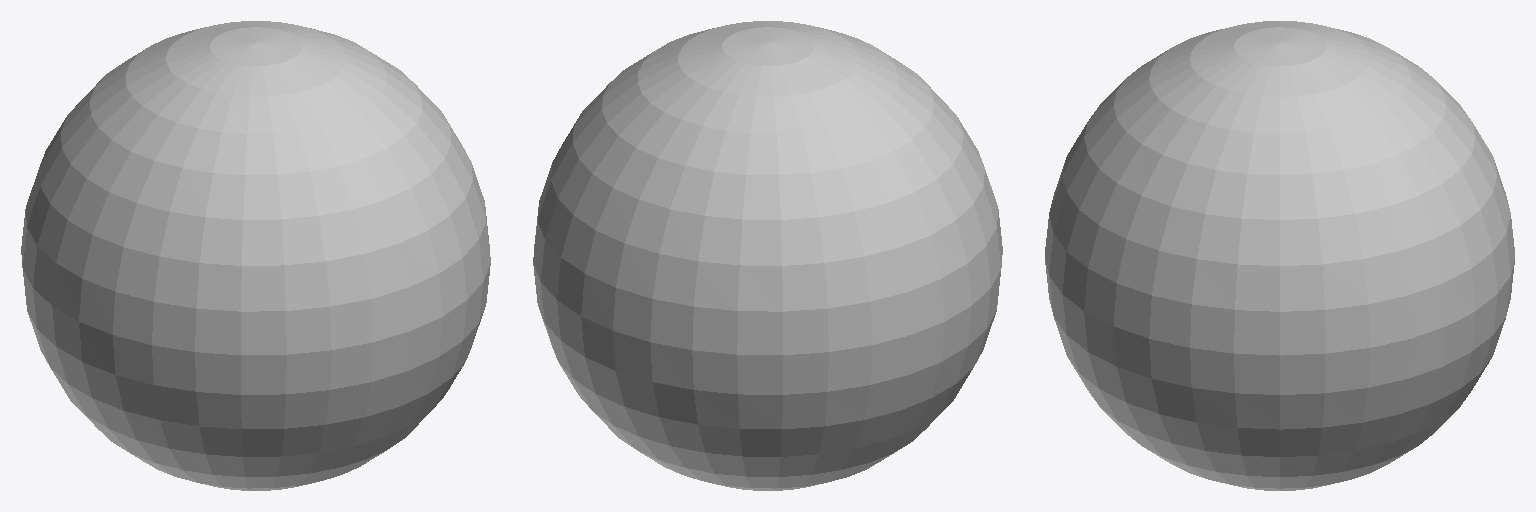
The model's file is ball.obj.
3 views of the same model, side by side, from view 1: azimuth 30°, elevation 25°; view 2: azimuth 150°, elevation 25°; view 3: azimuth 270°, elevation 25° (orthographic).
Parts seen in each view (by area): view 1: Sphere001; view 2: Sphere001; view 3: Sphere001.
Part boxes in pixels (left/top/right/bottom): Sphere001: left=21, top=21, right=490, bottom=490; Sphere001: left=533, top=21, right=1002, bottom=490; Sphere001: left=1045, top=21, right=1514, bottom=490.
Bounding box in the file's own units: 0.3027 × 0.3027 × 0.3028.